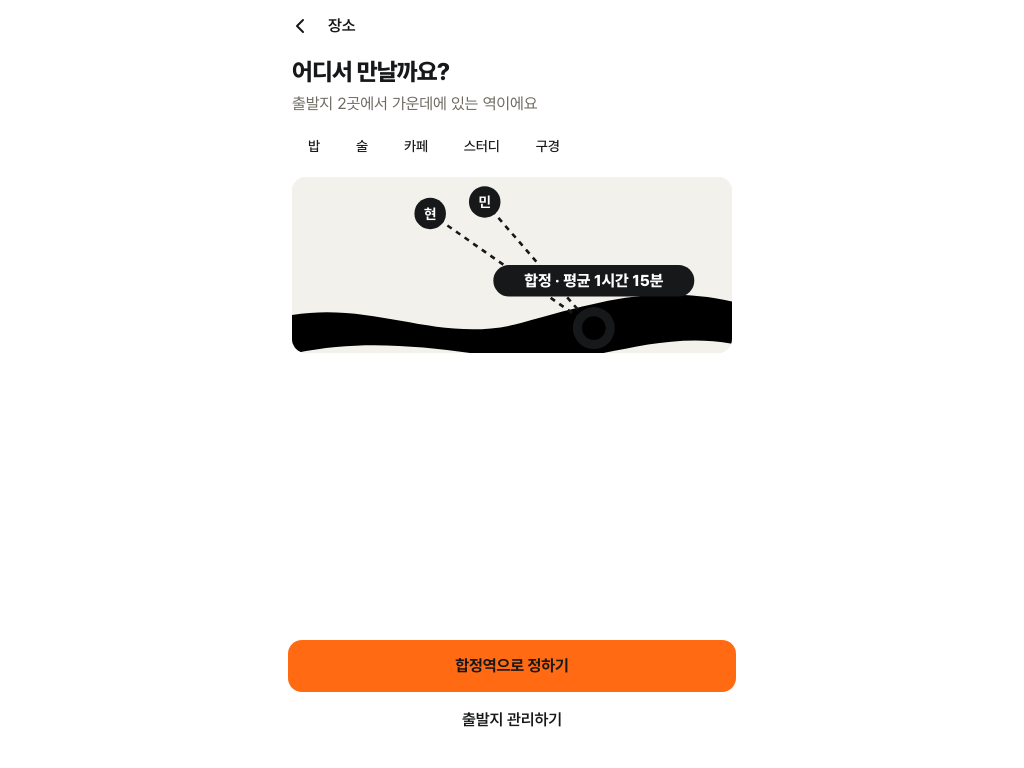
Test: 확정 시트의 평균 시간도 60분이 넘으면 시간과 분으로 적는다
Step 1. Click the button "합정역으로 정하기" → [512, 666], box [288,640,736,692]
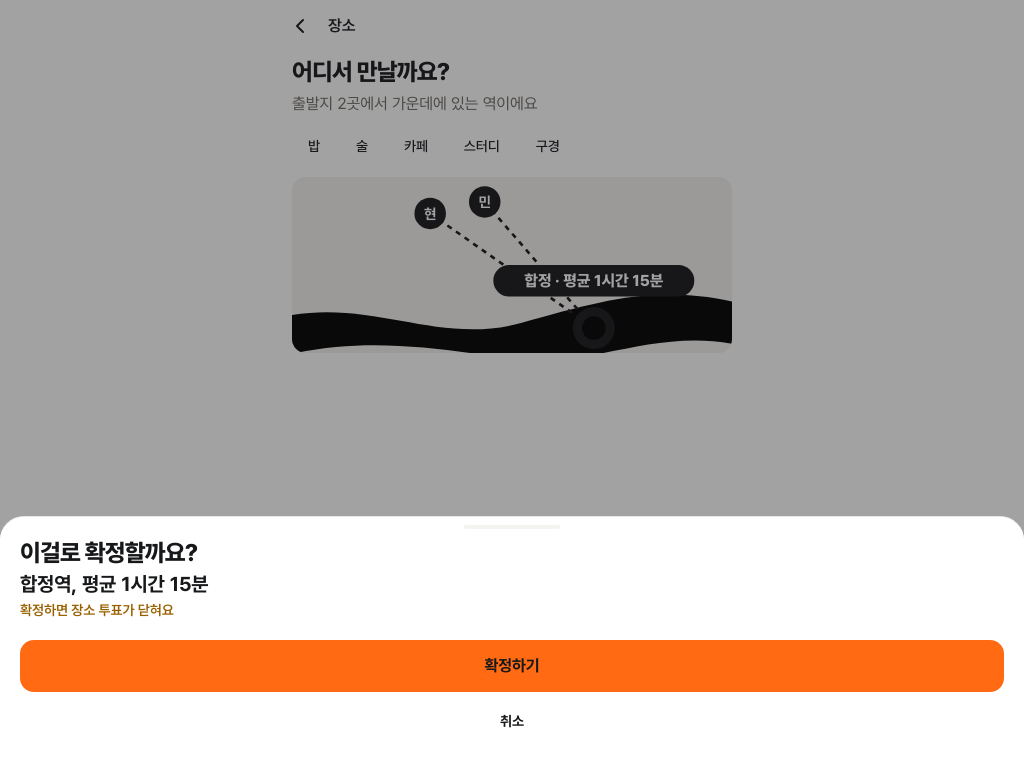
Expected: the text "합정역, 평균 1시간 15분" is shown, [20,569,208,597]
